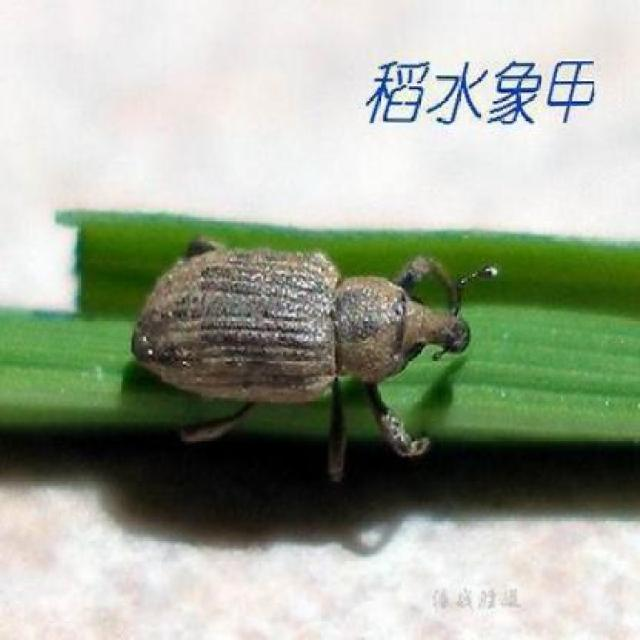rice-bug: (134, 237, 494, 438)
